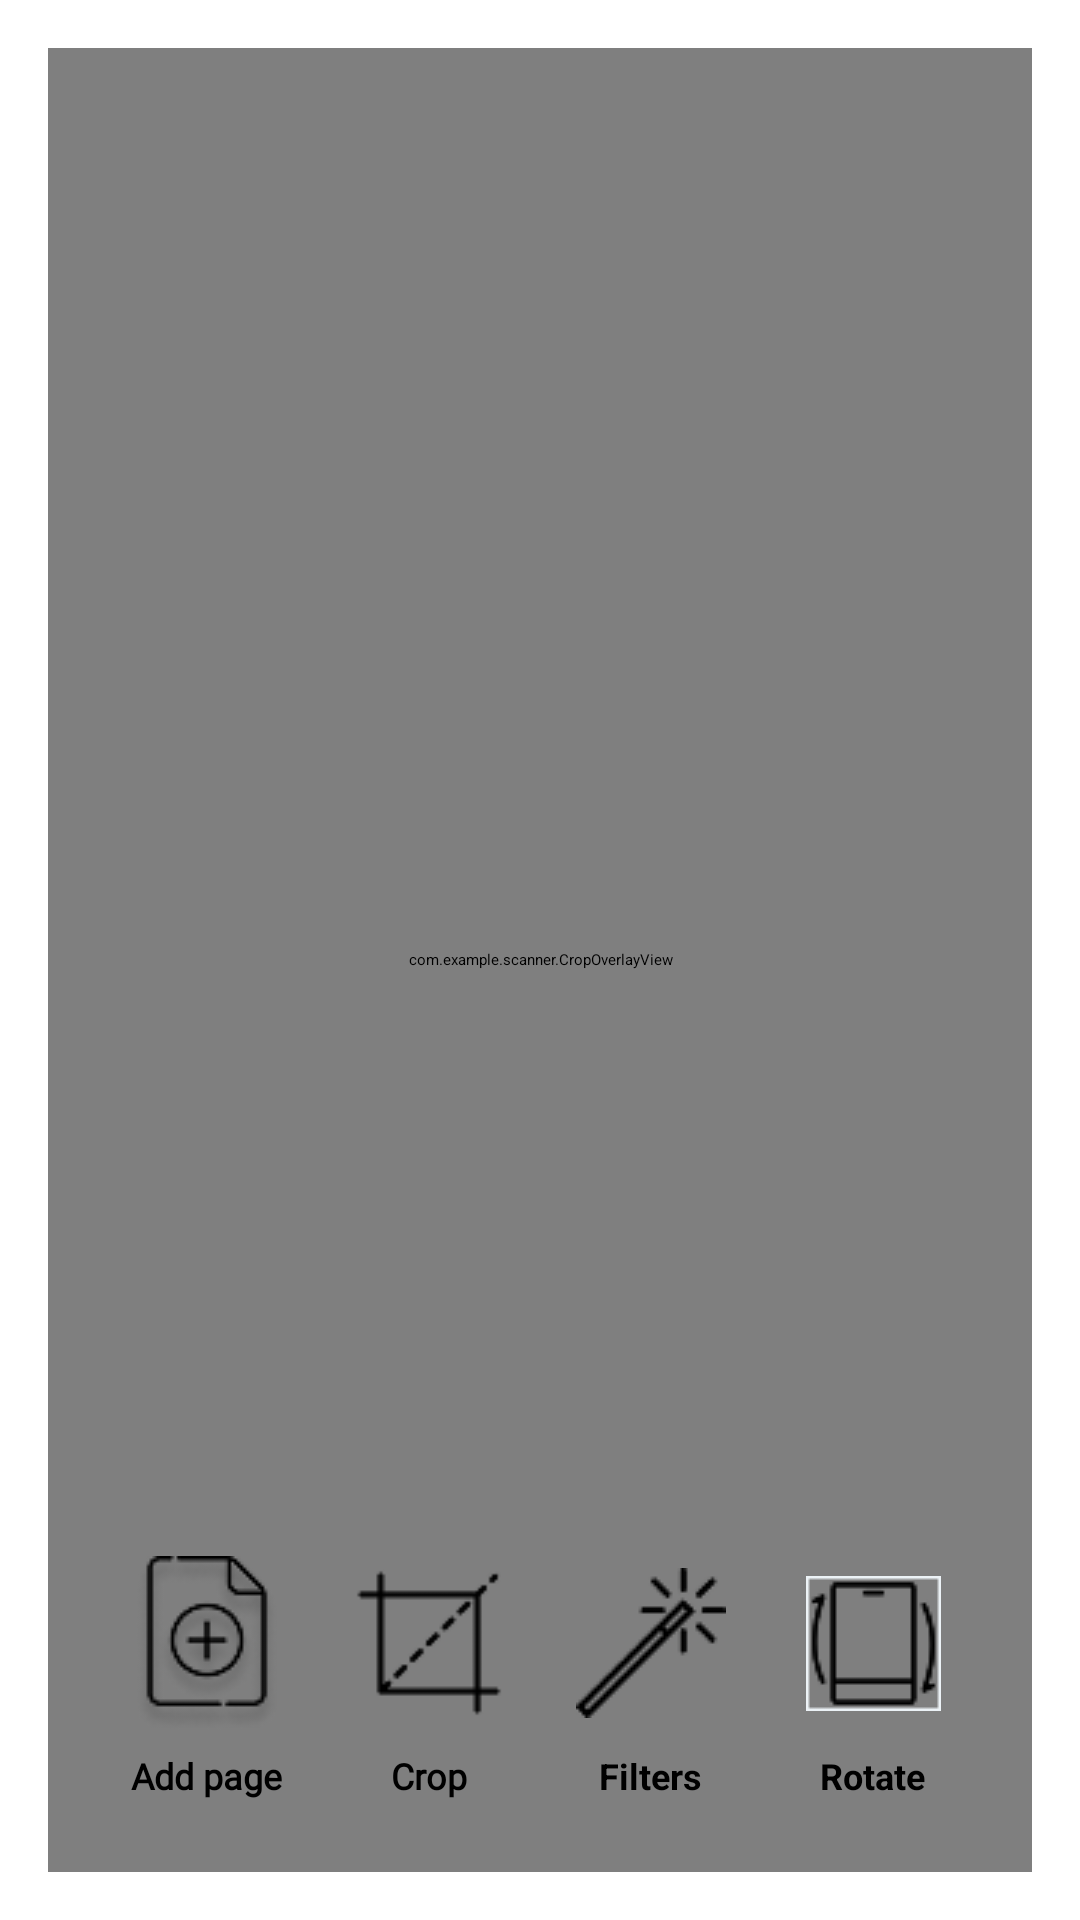

Locate icon controls on the screen. Image size 1080w x 1920h, boxes as (x1, y1, x2, y2).
Добавить страницу: (146, 1556, 268, 1707)
Обрезать: (357, 1571, 501, 1714)
Перевернуть снимок: (806, 1576, 941, 1711)
